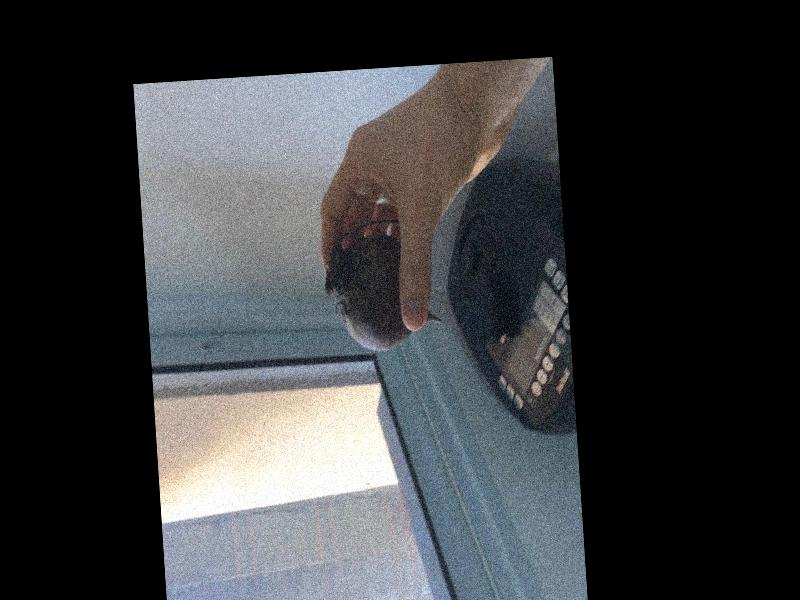Beet: (321, 218, 442, 354)
